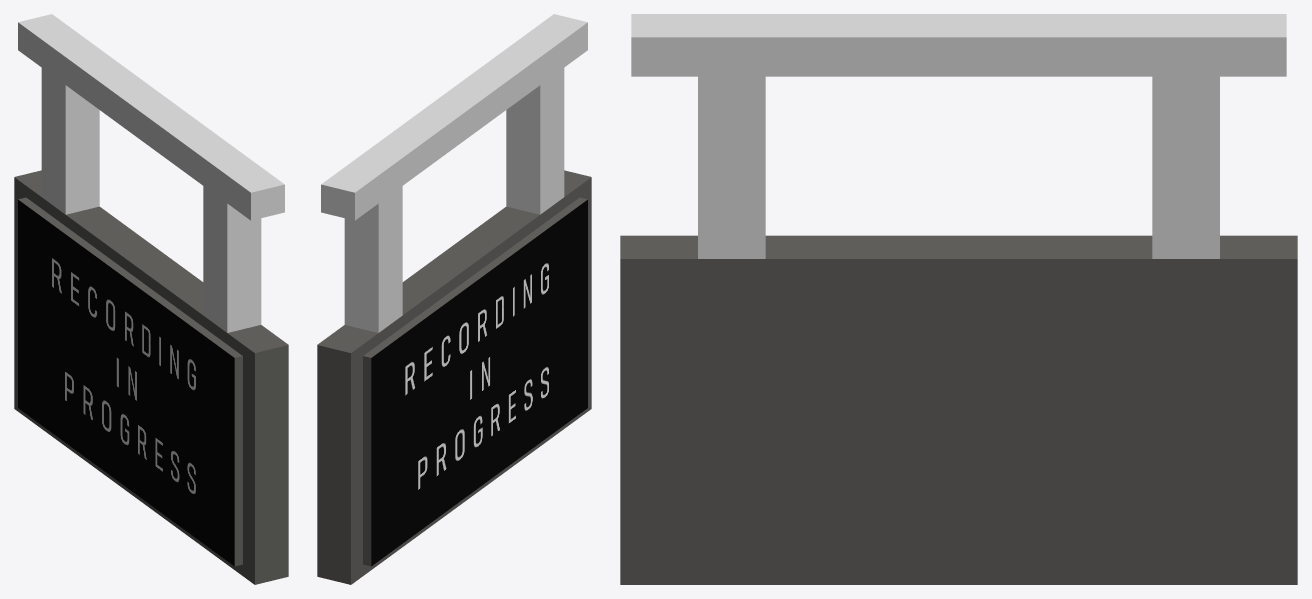
Rendered from RecordingSign.fbx.
The picture shows the model from 3 angles, left to right: view 1: azimuth 30°, elevation 25°; view 2: azimuth 150°, elevation 25°; view 3: azimuth 270°, elevation 25°; orthographic projection. The views are drawn at different scales.
Visible parts, largest first — view 1: Recording; view 2: Recording; view 3: Recording.
Part boxes in pixels (x1,y1,x2,y2): Recording: (14,14,288,584); Recording: (317,14,591,584); Recording: (620,14,1297,584).
Size of the model in its own units: 51.47 by 455 by 509.
